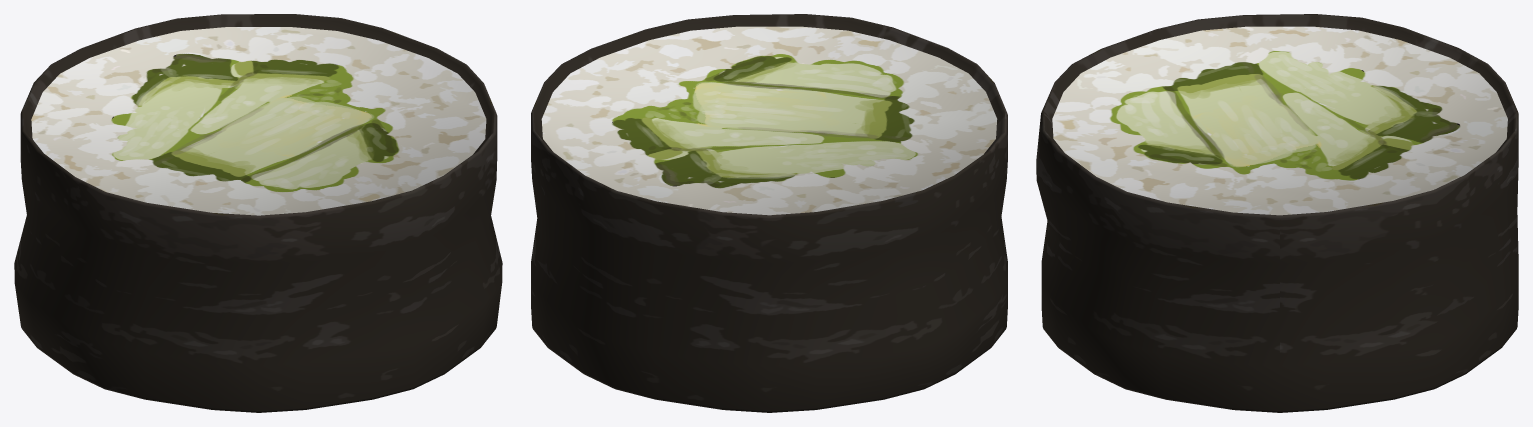
Rendered from Cucumber.fbx.
3 views of the same model, side by side, from view 1: azimuth 30°, elevation 25°; view 2: azimuth 150°, elevation 25°; view 3: azimuth 270°, elevation 25° (orthographic).
Visible parts, largest first — view 1: Sushi_Cucumber; view 2: Sushi_Cucumber; view 3: Sushi_Cucumber.
Part boxes in pixels (box(x1,y1,x2,y2)): Sushi_Cucumber: box(14, 14, 502, 412); Sushi_Cucumber: box(531, 14, 1007, 412); Sushi_Cucumber: box(1036, 14, 1518, 412).
Size of the model in its own units: 0.6846 by 0.6837 by 0.3107.
